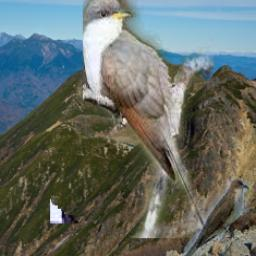Crow: (50, 91, 100, 225)
Cuckoo: (83, 0, 214, 239), (182, 178, 248, 256)
